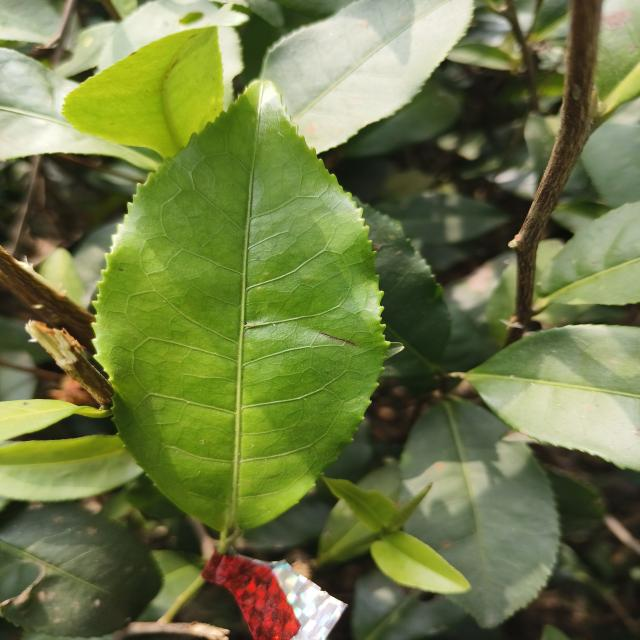Leaf: (95, 81, 388, 530), (400, 400, 559, 627), (260, 0, 474, 152), (462, 325, 640, 470), (0, 502, 162, 637), (63, 27, 224, 157), (0, 48, 159, 170), (363, 205, 451, 384), (536, 201, 640, 311), (0, 435, 142, 502), (377, 194, 507, 245), (371, 531, 470, 593), (581, 122, 640, 208), (0, 399, 111, 441), (324, 478, 398, 532)
